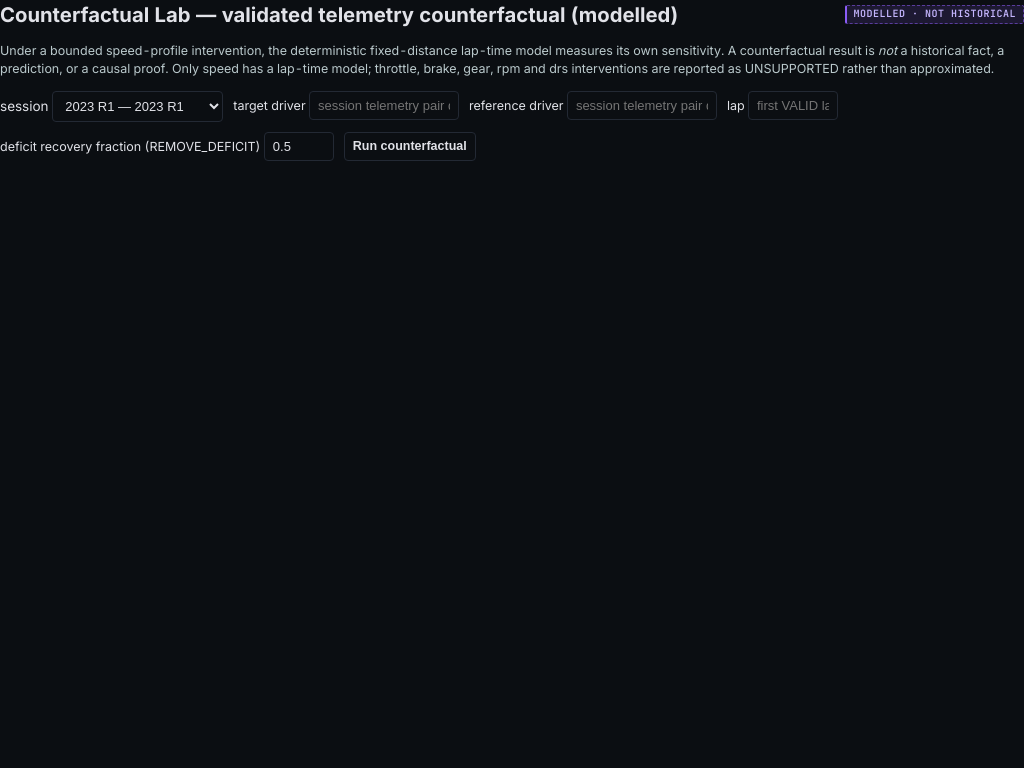
Scenario: CounterfactualView (Stitch Counterfactual Lab) › renders the KPI ribbons from real payload fields
Click the button "Run counterfactual" at (410, 146), box [344,132,476,161]
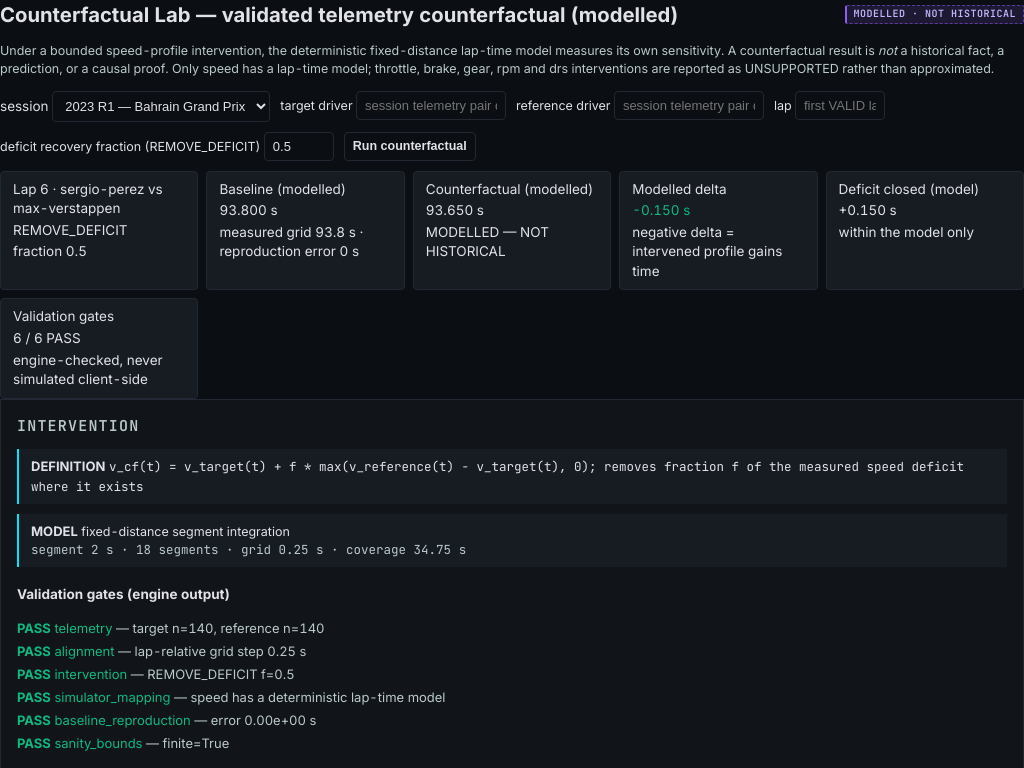
Expected: the text "93.800 s" is shown, [219,202,278,218]
Expected: the text "93.650 s" is shown, [426,202,484,218]
Expected: the text "-0.150 s" is shown, [632,202,690,218]
